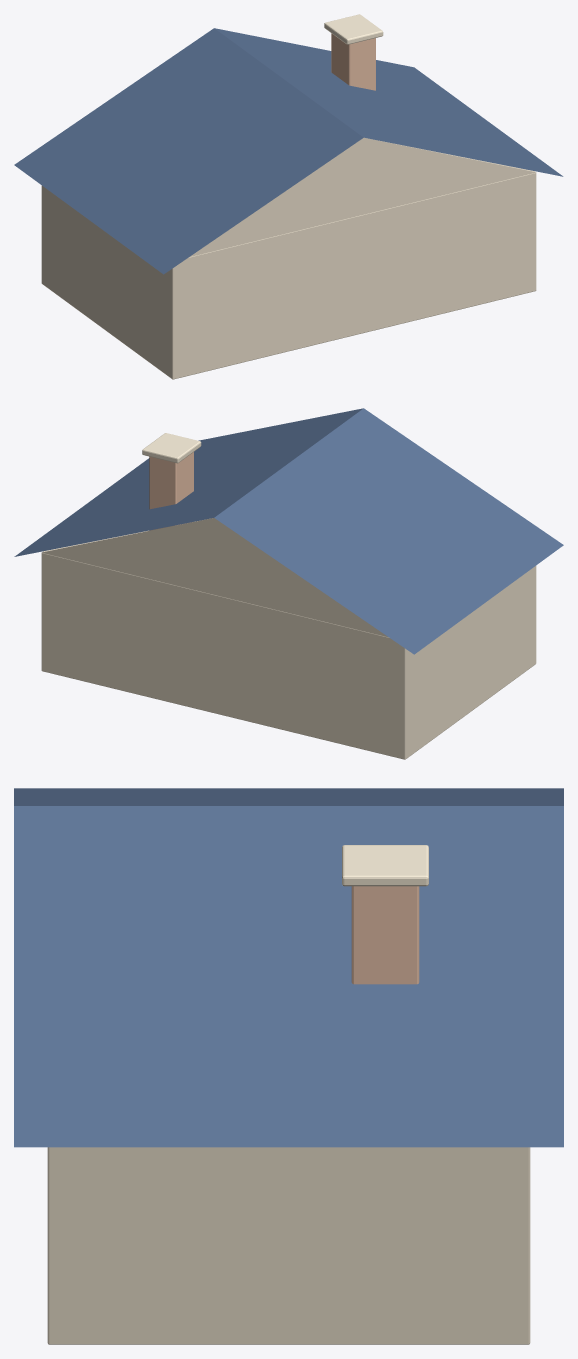
The model's file is distant_roofline.glb.
The picture shows the model from 3 angles, top to bottom: view 1: azimuth 30°, elevation 25°; view 2: azimuth 150°, elevation 25°; view 3: azimuth 270°, elevation 25°; orthographic projection. The views are drawn at different scales.
Parts seen in each view (by area): view 1: distant_roofline_Mesh; view 2: distant_roofline_Mesh; view 3: distant_roofline_Mesh.
Boxes of the visible parts, x1=… form: distant_roofline_Mesh: x1=14, y1=14, x2=563, y2=379; distant_roofline_Mesh: x1=14, y1=408, x2=563, y2=759; distant_roofline_Mesh: x1=14, y1=788, x2=563, y2=1344.
Size of the model in its own units: 8.8 by 4.61 by 5.7.
